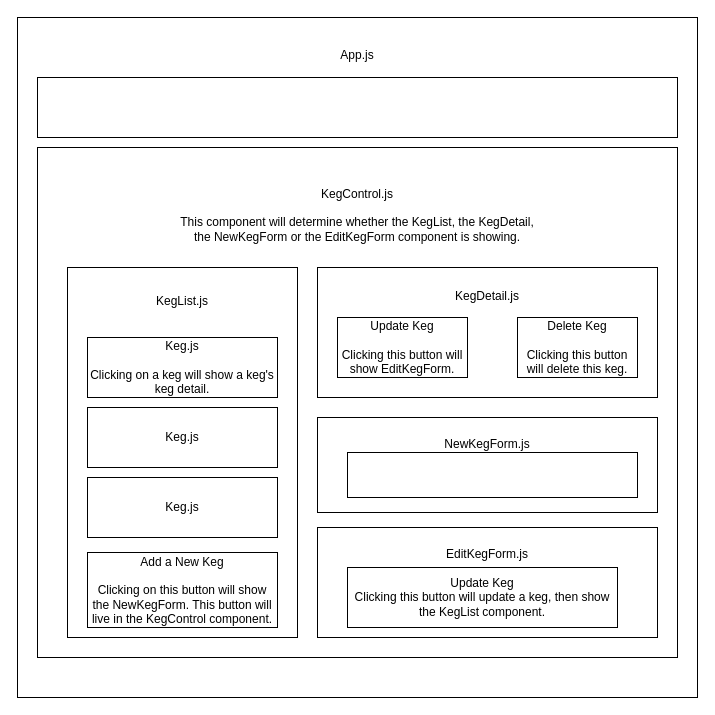
Image size: 715x715. Some labels were removed from this diagram. The centre of each missing label's shape, as x and y in pixels:
"Add Keg Clicking this button will add a keg, then show the KegList component." goes at pixel 492 475.
"Header.js" goes at pixel 357 107.
